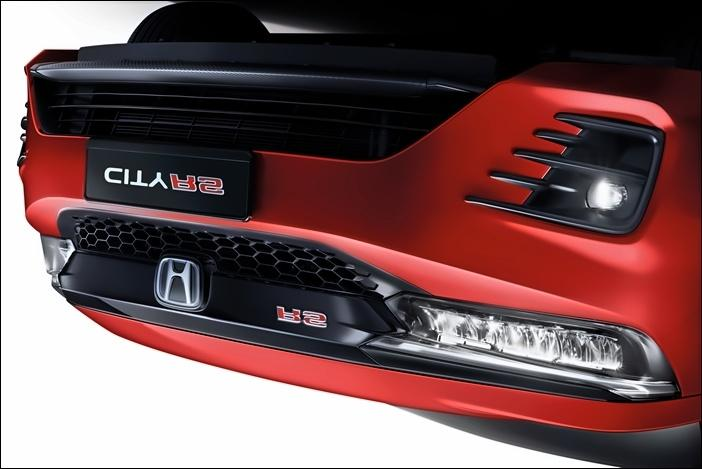Car hood: (66, 305, 702, 436)
Front bumper: (9, 29, 702, 236)
Headlight - -L-: (32, 225, 79, 290)
Headlight - -R-: (356, 282, 688, 406)
